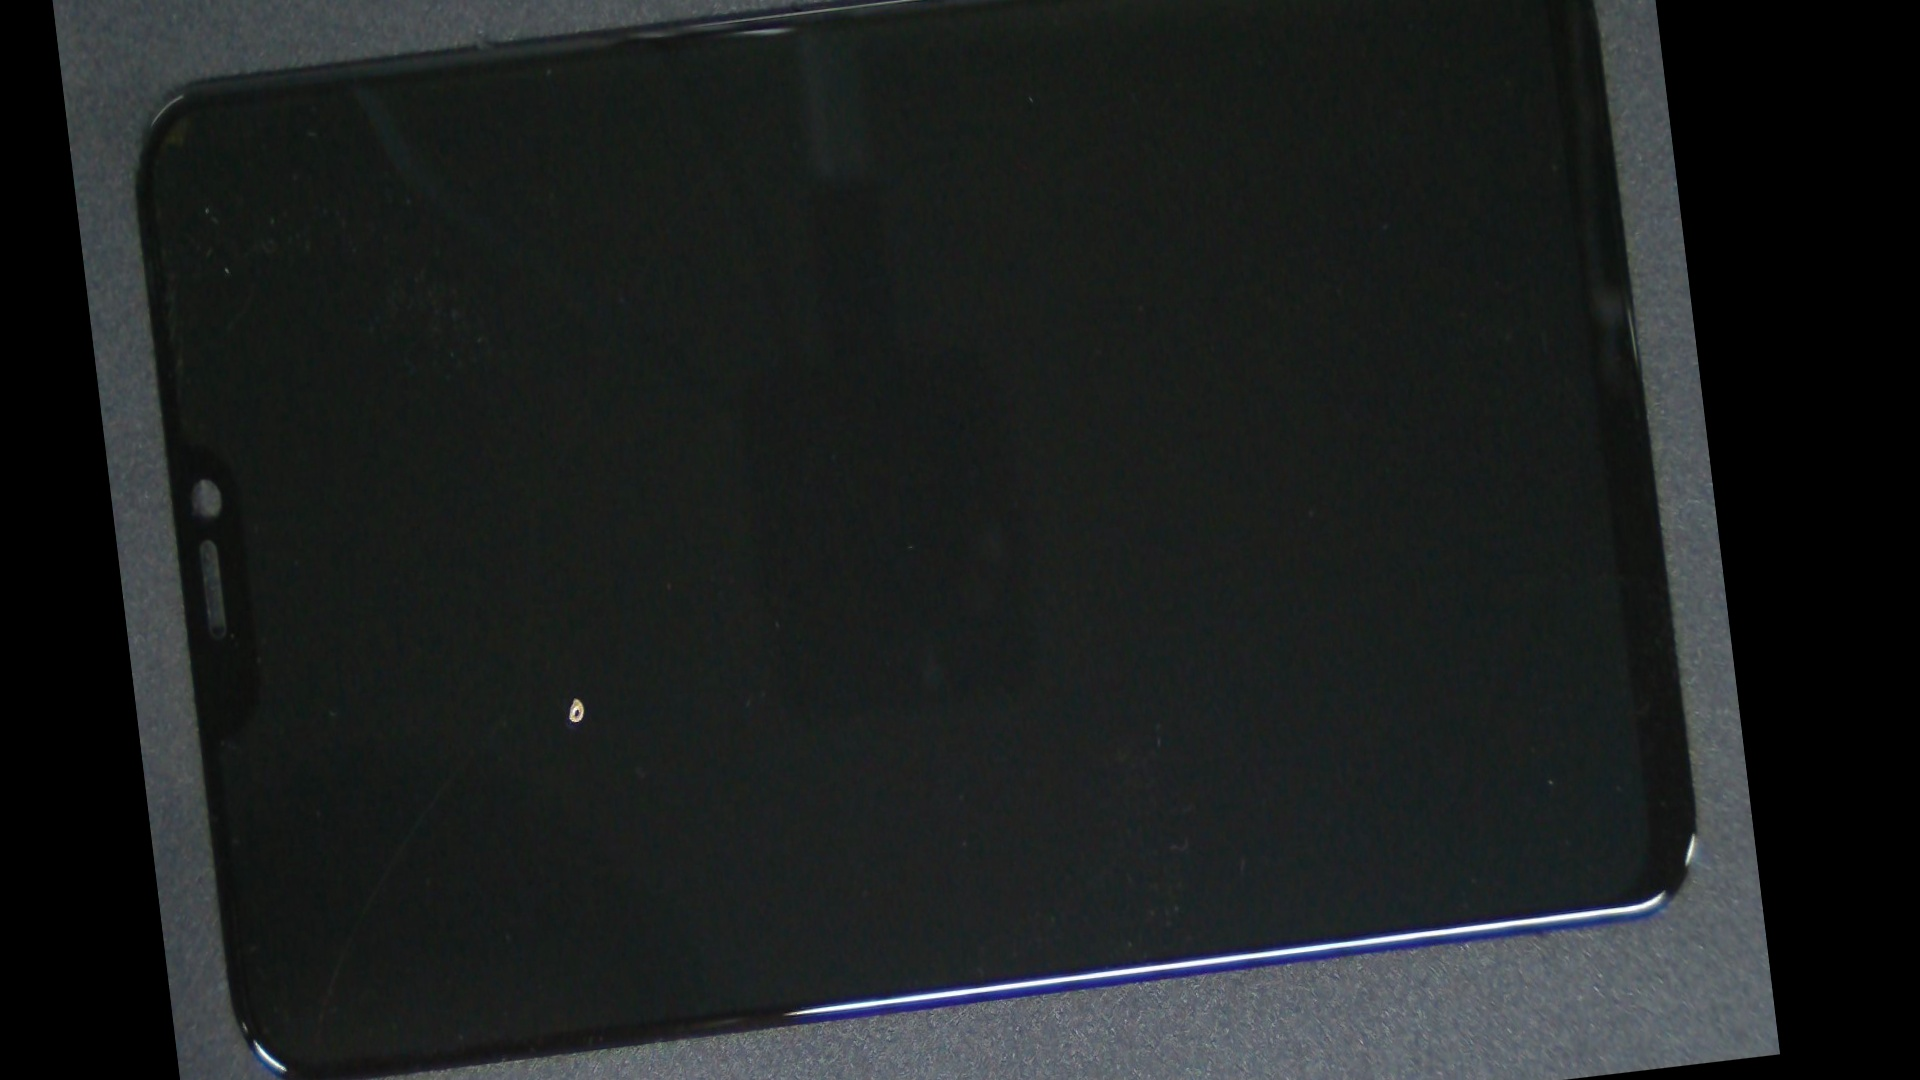oil: (311, 278, 836, 1080)
